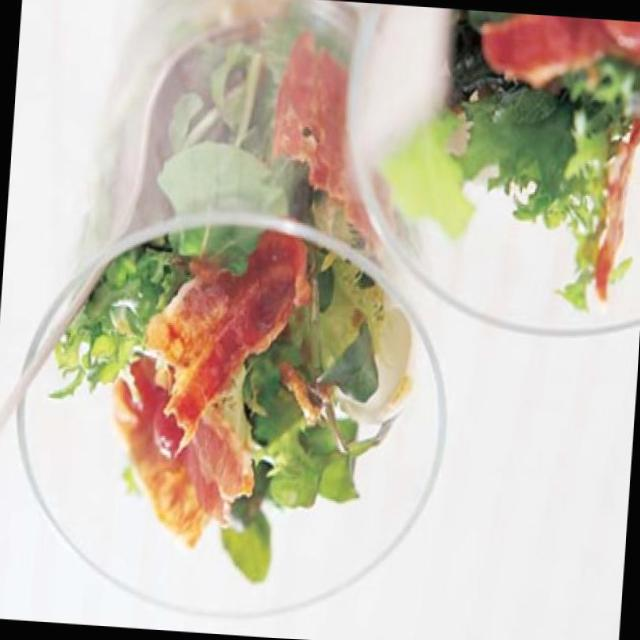Green Salad: (77, 265, 409, 544)
